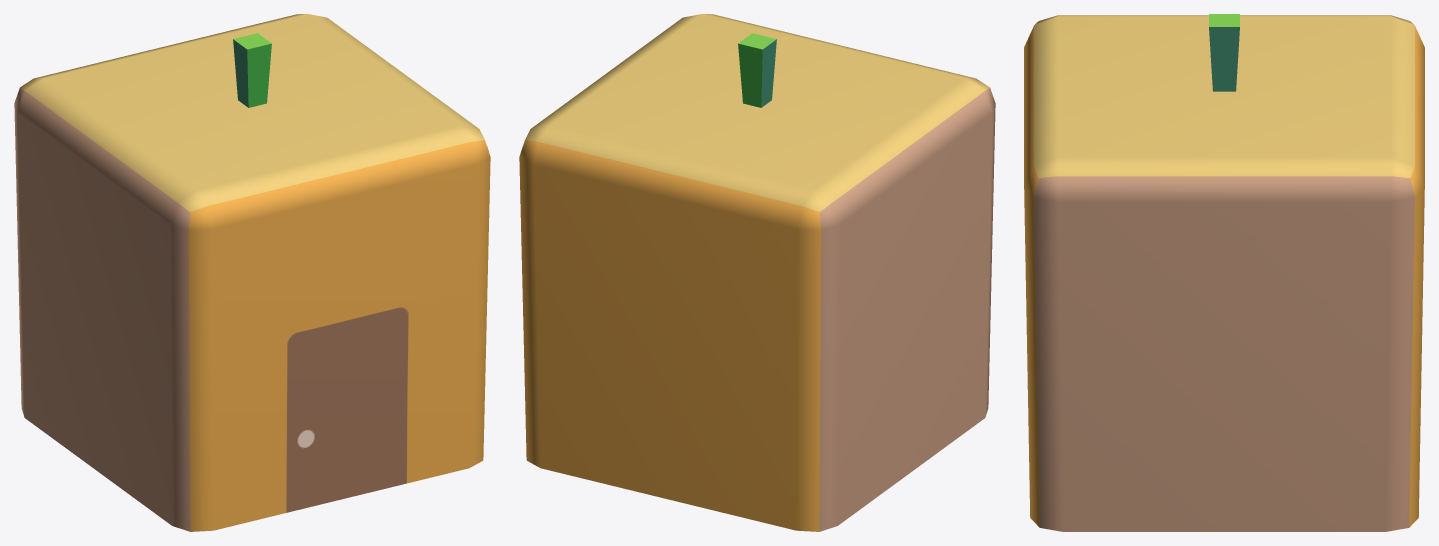
Rendered from houseOrange.fbx.
The picture shows the model from 3 angles, left to right: view 1: azimuth 30°, elevation 25°; view 2: azimuth 150°, elevation 25°; view 3: azimuth 270°, elevation 25°; orthographic projection. The views are drawn at different scales.
Parts seen in each view (by area): view 1: body, stalk; view 2: body, stalk; view 3: body, stalk.
Part boxes in pixels (x1,y1,x2,y2): body: [14, 14, 490, 531]; stalk: [233, 33, 271, 107]; body: [519, 14, 995, 531]; stalk: [738, 33, 776, 107]; body: [1024, 15, 1424, 531]; stalk: [1209, 14, 1239, 91].
Size of the model in its own units: 7.6 by 8.98 by 7.6.
